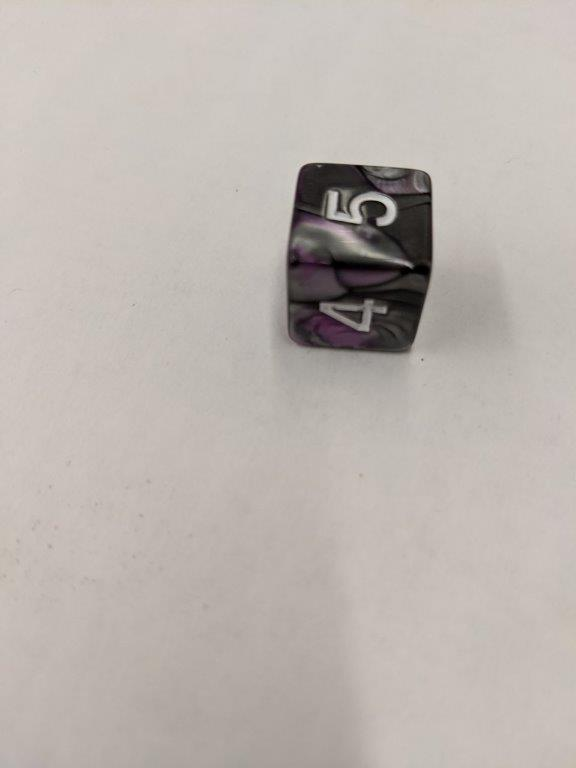d6-5: (288, 161, 433, 355)
